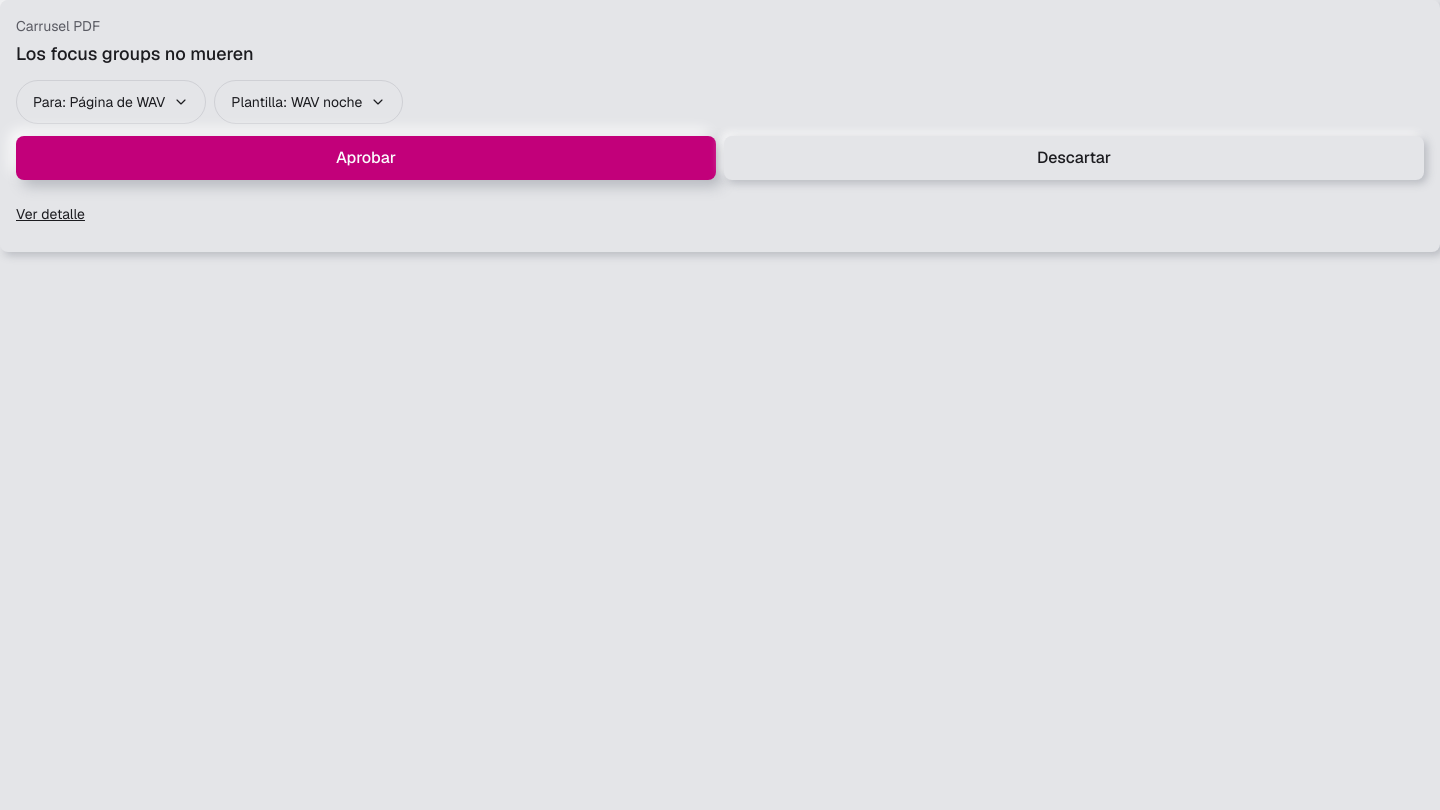
Test: TarjetaDeIdea › shows the hook, summary, format, numbered skeleton, sources and why that account
Step 1. Click the button "Ver detalle" → (50, 214), box [16,192,85,236]
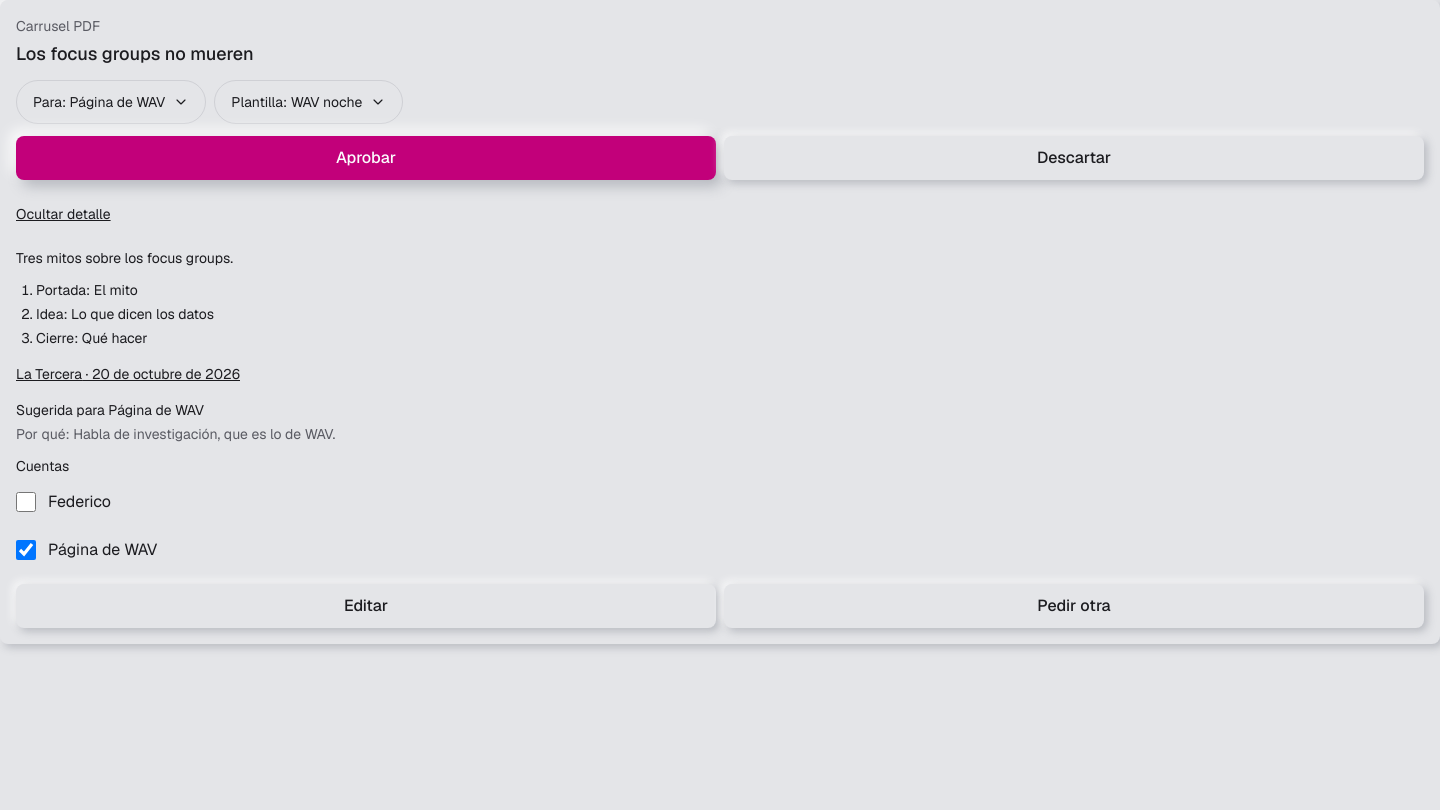
expect the text "Tres mitos sobre los focus groups." is shown: met, box [16,249,233,267]
expect the list items read "Portada: El mito", "Idea: Lo que dicen los datos", "Cierre: Qué hacer", in this order: met, box [36,281,138,299]; [36,305,214,323]; [36,329,148,347]
expect the text "Sugerida para Página de WAV" is shown: met, box [16,401,204,419]
